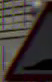Speed Breaker ahead: (9, 11, 49, 71)
